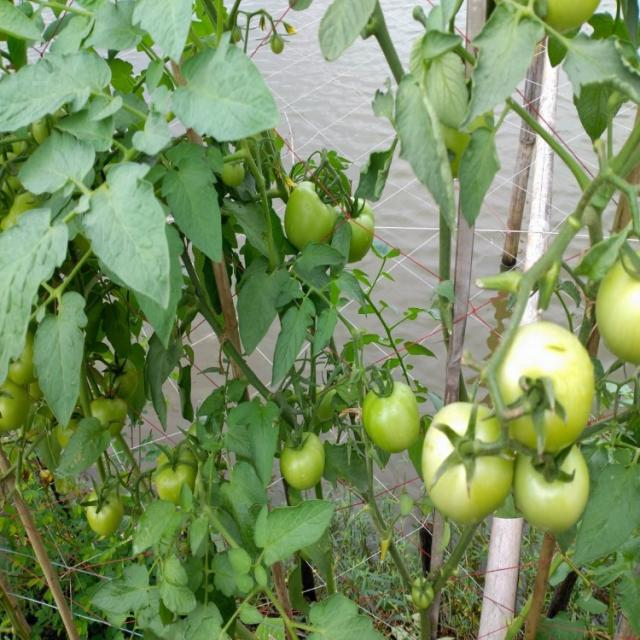tomato: (497, 323, 590, 448), (420, 398, 494, 527), (518, 452, 588, 533), (596, 254, 640, 361), (359, 380, 415, 456), (289, 180, 340, 251), (154, 444, 207, 505), (283, 432, 329, 488), (541, 1, 615, 33), (1, 174, 38, 231), (345, 210, 383, 265), (96, 395, 137, 441), (1, 385, 35, 434), (84, 490, 121, 535), (11, 333, 42, 385), (29, 109, 70, 141), (111, 355, 141, 395), (225, 158, 251, 189), (55, 416, 79, 444)
